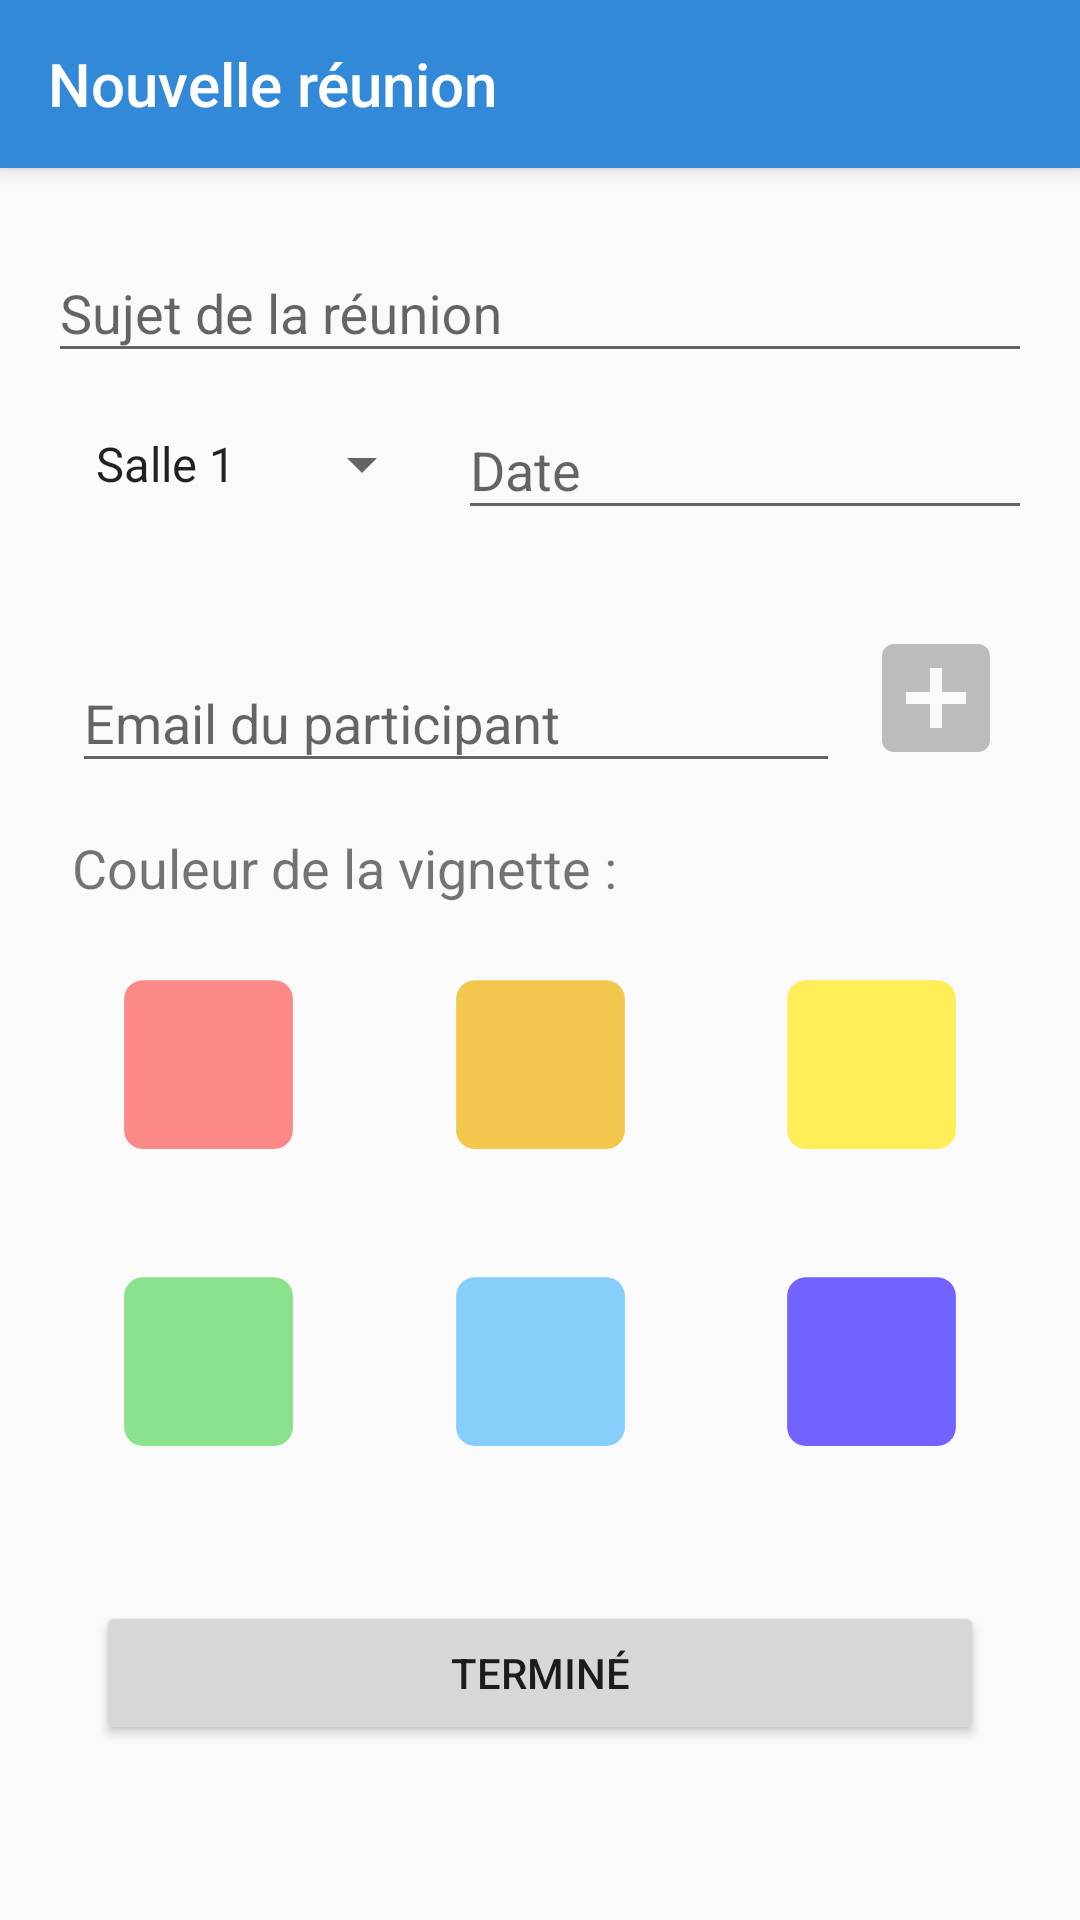

Screen size 1080 × 1920. Icon name, then its box in pixels as (x1, y1, x2, y2):
Ajouter l'email: (882, 644, 990, 752)
